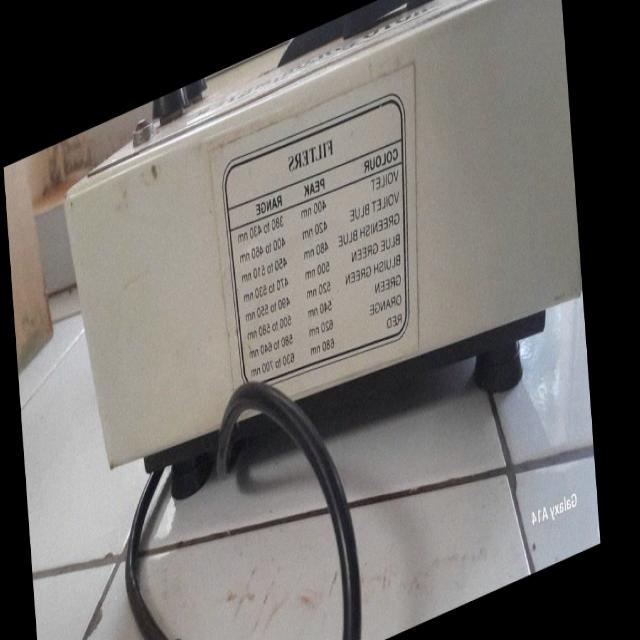Photocolorimeter: (64, 0, 553, 506)
